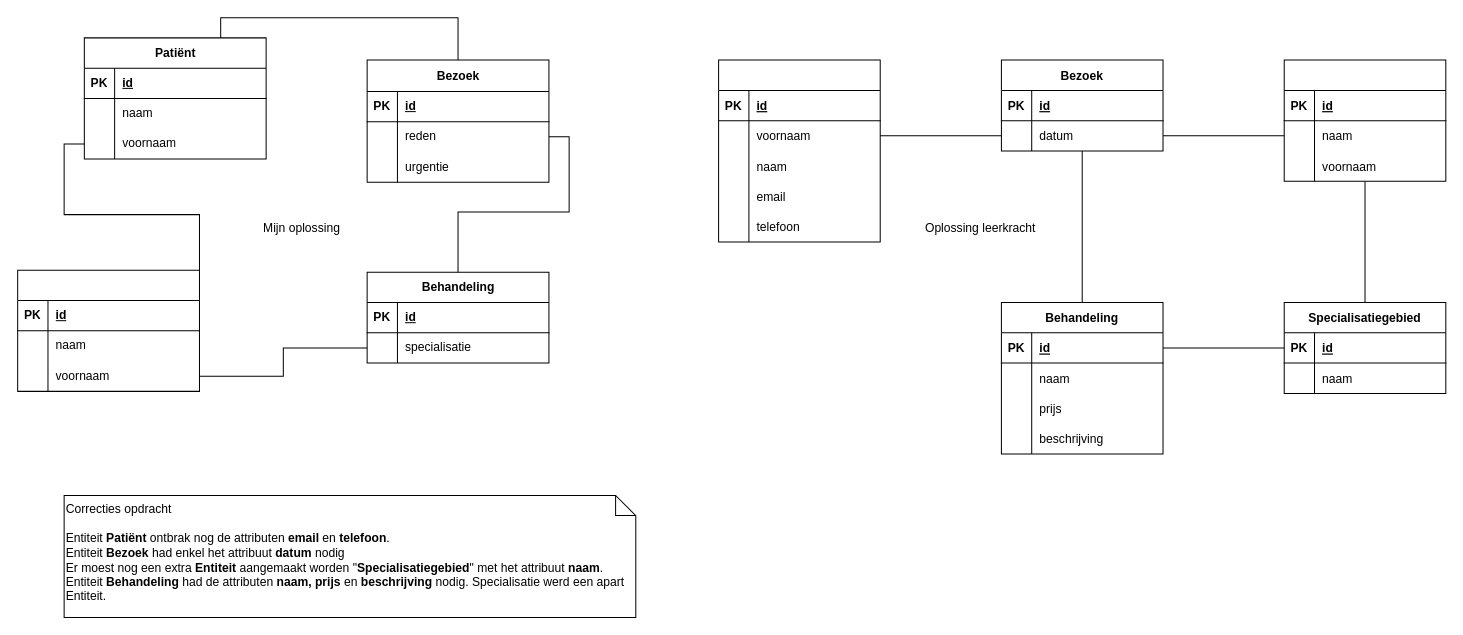
The diagram is 1463 pixels wide and 635 high, and some of its shapes have lost their labels. Here are the shapes that lost their labels. From the top down, the box of each, then its label:
(1283, 59, 1446, 181): Dokter
(718, 59, 880, 242): Patient
(17, 269, 199, 391): Arts
